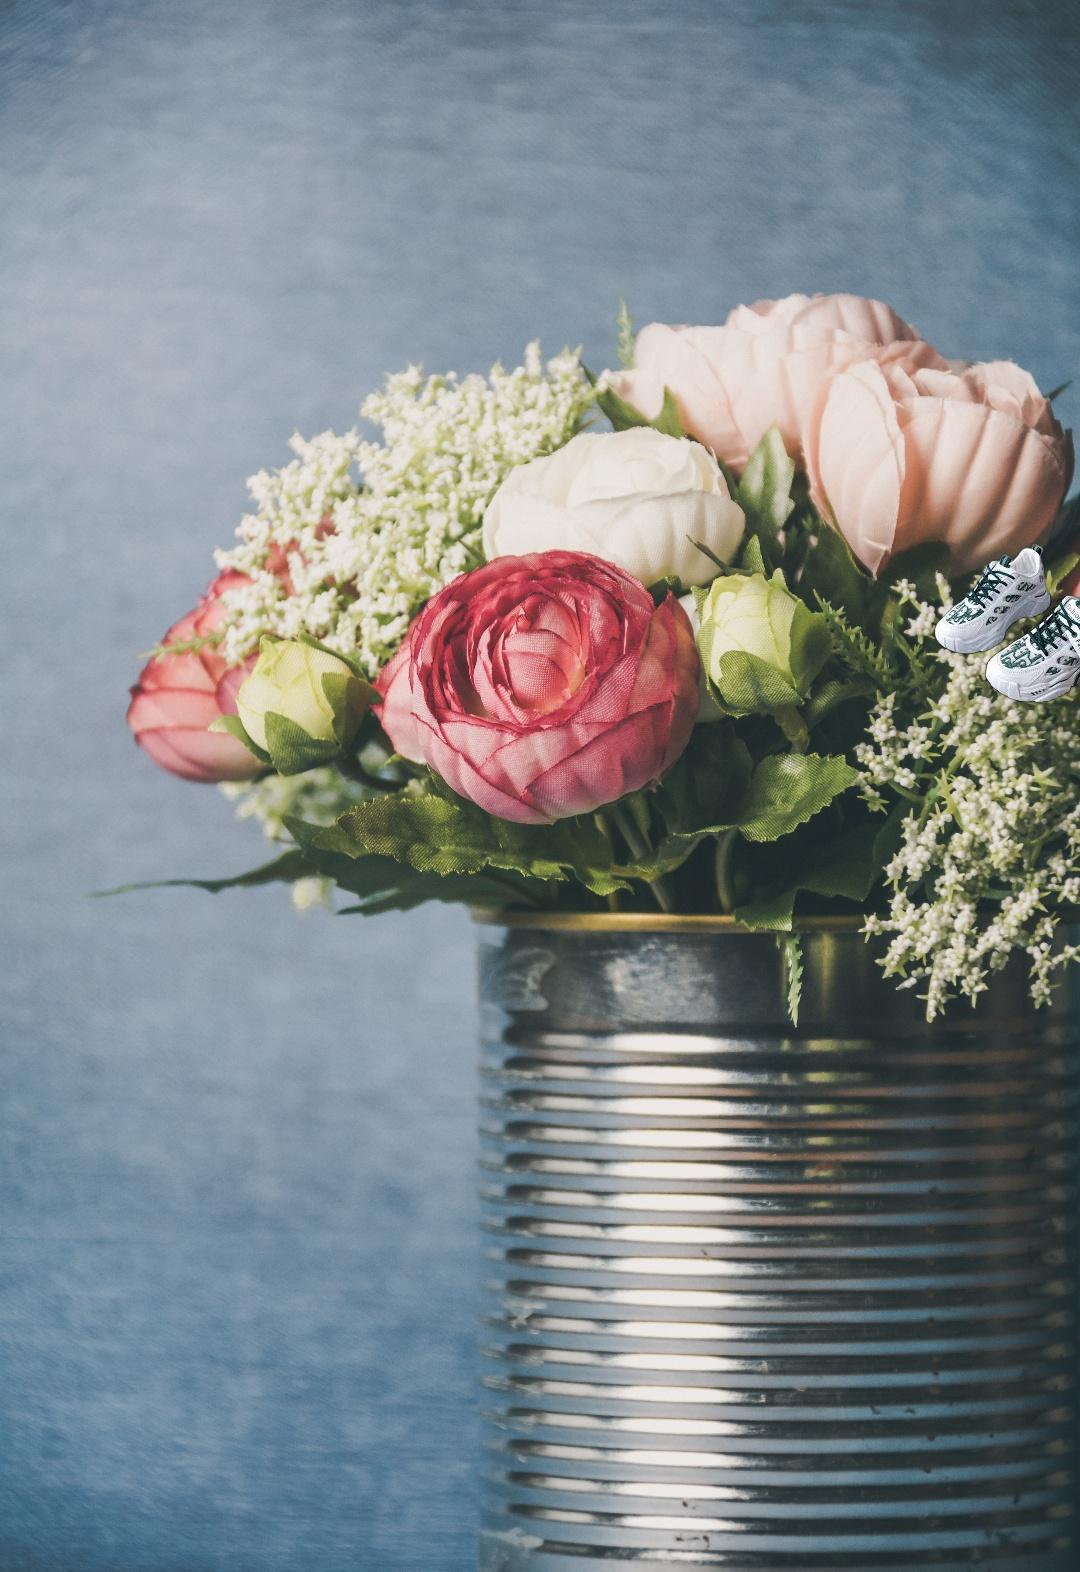shoes: (923, 538, 1080, 739)
